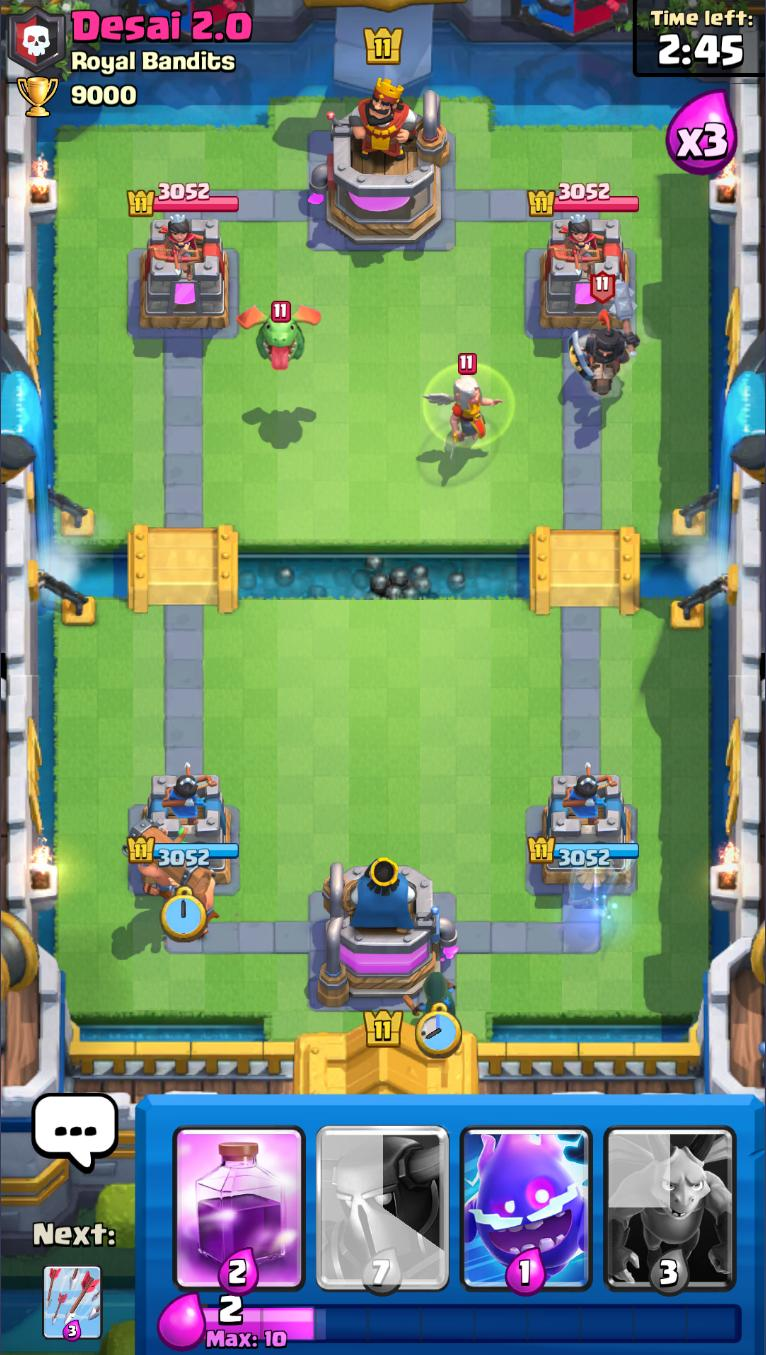ArrowNext: (41, 1262, 105, 1343)
BabyDragon: (237, 300, 321, 370)
DarkPrince: (567, 271, 642, 398)
ElectroSpiritDeck: (455, 1099, 598, 1295)
Elixir: (203, 1296, 744, 1351)
EnemyTower: (135, 216, 234, 331), (537, 216, 633, 333)
Healer: (423, 354, 516, 449)
KingTower: (307, 78, 453, 247)
MinionsDeck: (597, 1097, 744, 1298)
MyBandit: (403, 971, 458, 1022)
MyBattleRam: (120, 816, 221, 939)
MyKingTower: (315, 859, 460, 1009)
MyPrincessTower: (526, 770, 641, 890), (128, 772, 242, 890)
MyPrincessTowerHP: (127, 836, 241, 869), (525, 835, 641, 867)
MyRoyaleGhost: (567, 842, 639, 923)
PekkaDeck: (312, 1101, 453, 1296)
RageDeck: (166, 1096, 312, 1295)
TowerPrincessHP: (528, 182, 640, 219), (128, 182, 241, 218)
